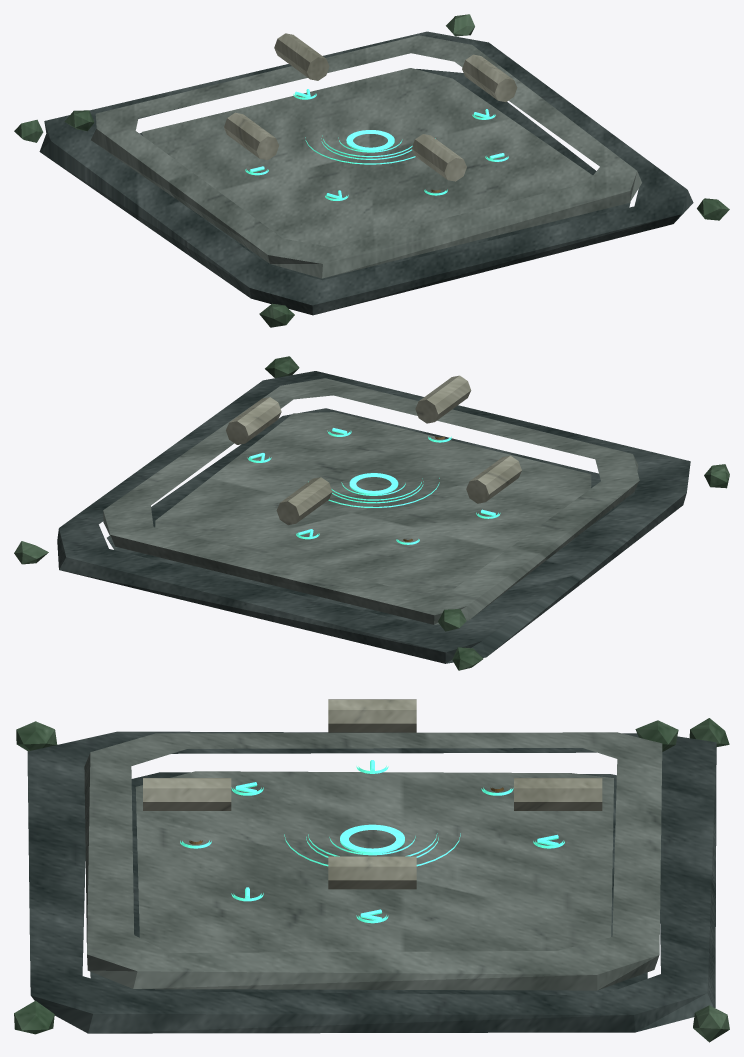
Rendered from 0551_rune_dais_01.glb.
The picture shows the model from 3 angles, top to bottom: view 1: azimuth 30°, elevation 25°; view 2: azimuth 150°, elevation 25°; view 3: azimuth 270°, elevation 25°; orthographic projection. The views are drawn at different scales.
Parts seen in each view (by area): view 1: stone, stone_dark, stone_light, moss, glow; view 2: stone, stone_dark, stone_light, moss, glow; view 3: stone, stone_dark, stone_light, moss, glow.
Boxes of the visible parts, <box> form: stone: <box>91,35,641,278</box>; stone_dark: <box>39,31,693,315</box>; stone_light: <box>224,33,517,181</box>; moss: <box>14,14,729,327</box>; glow: <box>245,89,508,200</box>; stone: <box>103,378,639,624</box>; stone_dark: <box>57,371,690,663</box>; stone_light: <box>226,375,521,525</box>; moss: <box>14,356,729,670</box>; glow: <box>247,428,500,544</box>; stone: <box>84,732,662,990</box>; stone_dark: <box>27,731,716,1033</box>; stone_light: <box>143,699,602,889</box>; moss: <box>14,718,729,1042</box>; glow: <box>180,760,564,923</box>.
Bounding box in the file's own units: 4.06 × 0.7243 × 4.05.
Materials: 6 (6 with a texture image).
